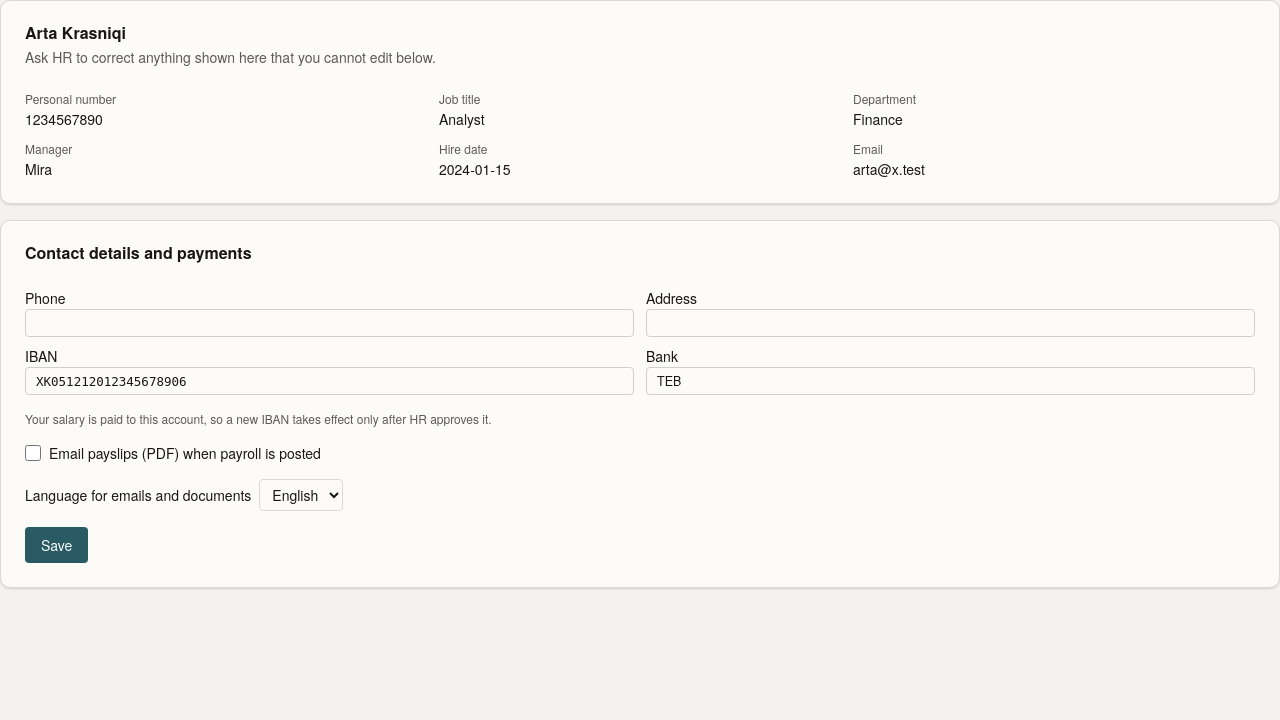
Test: My profile › applies the phone at once but leaves a new IBAN pending HR approval
Expected: the field labelled "IBAN" holds "XK051212012345678906", [25,367,634,395]
Type "+383 44 123 456" into the field labelled "Phone" at x=330, y=323, box [25,309,634,337]
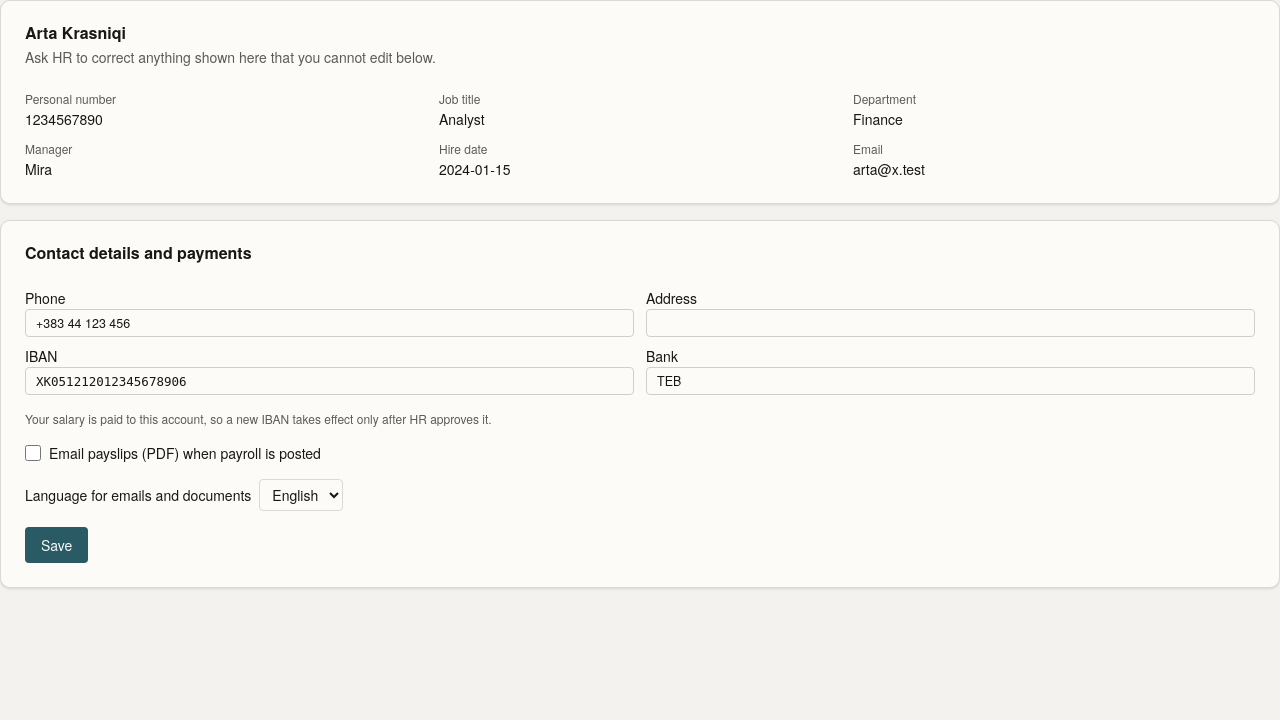
Replace the text in the field labelled "IBAN" with "XK27 1701 0000 0000 0012" at x=330, y=381, box [25,367,634,395]
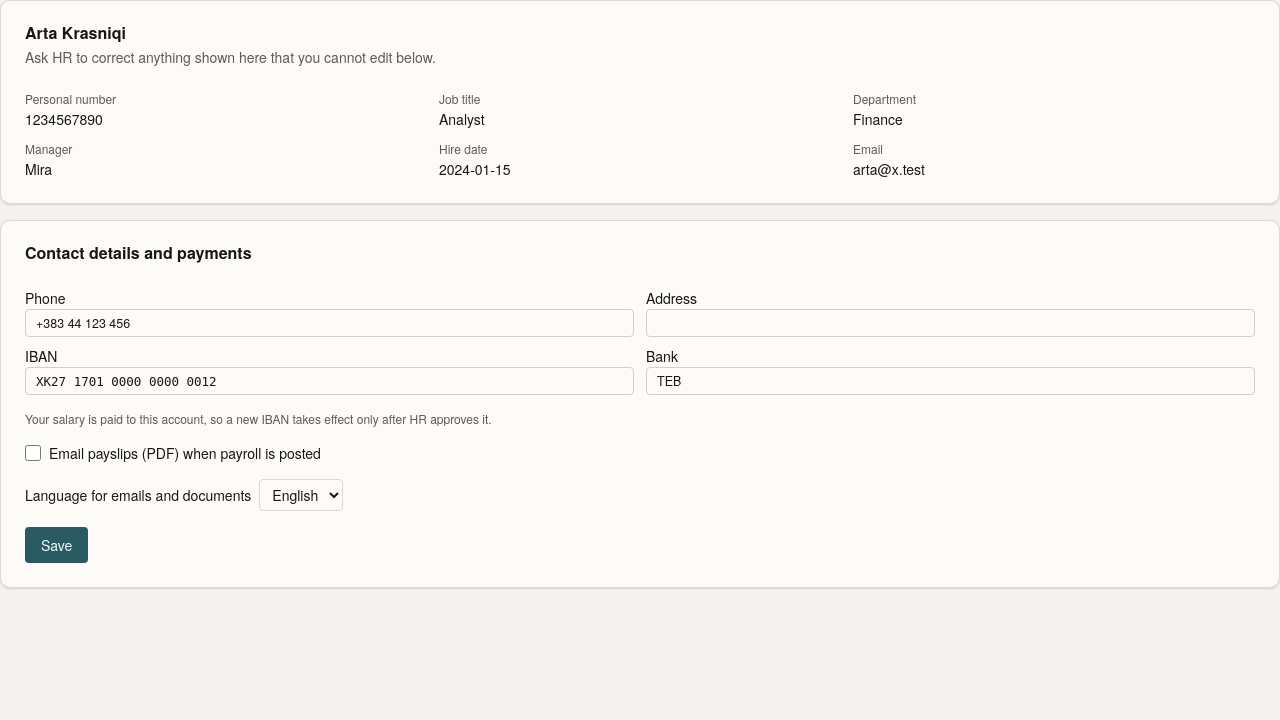
Click the button "Save" at x=57, y=545, box [25,527,88,563]
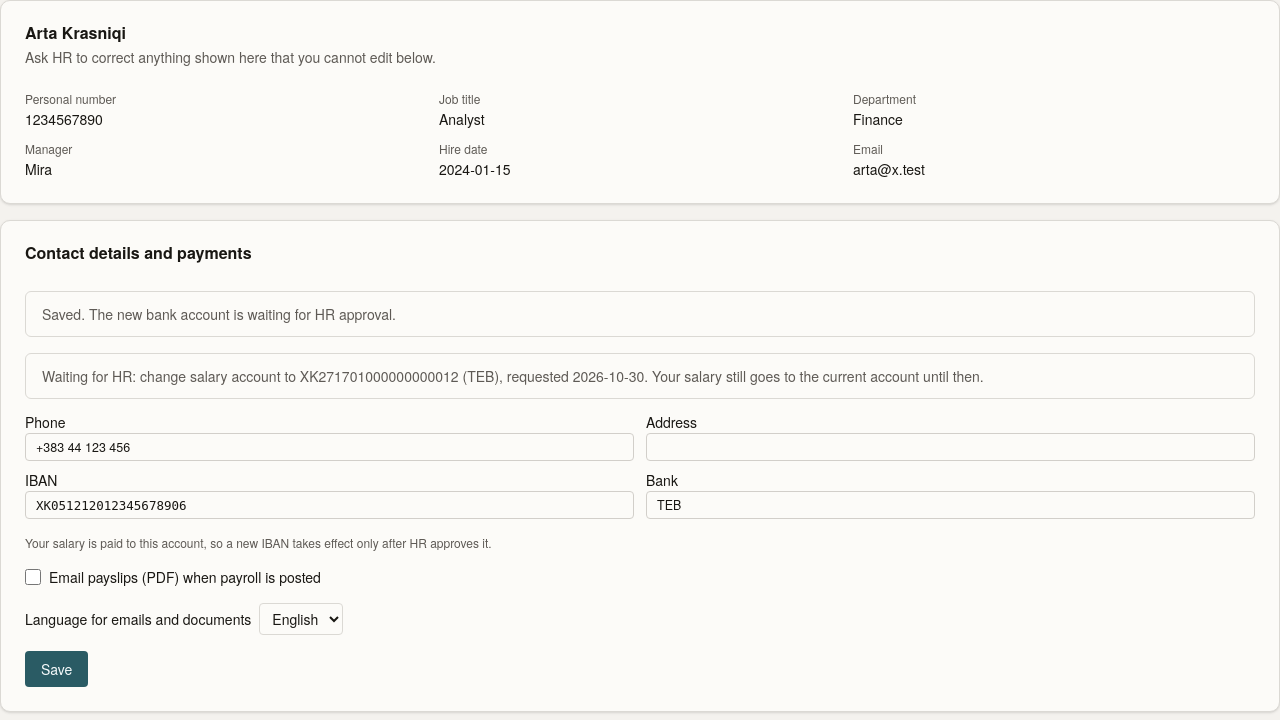
Result: the text "Saved. The new bank account is waiting for HR approval." is shown at [42,304,396,324]
Result: the text "Waiting for HR: change salary account to XK271701000000000012" is shown at [42,366,984,386]
